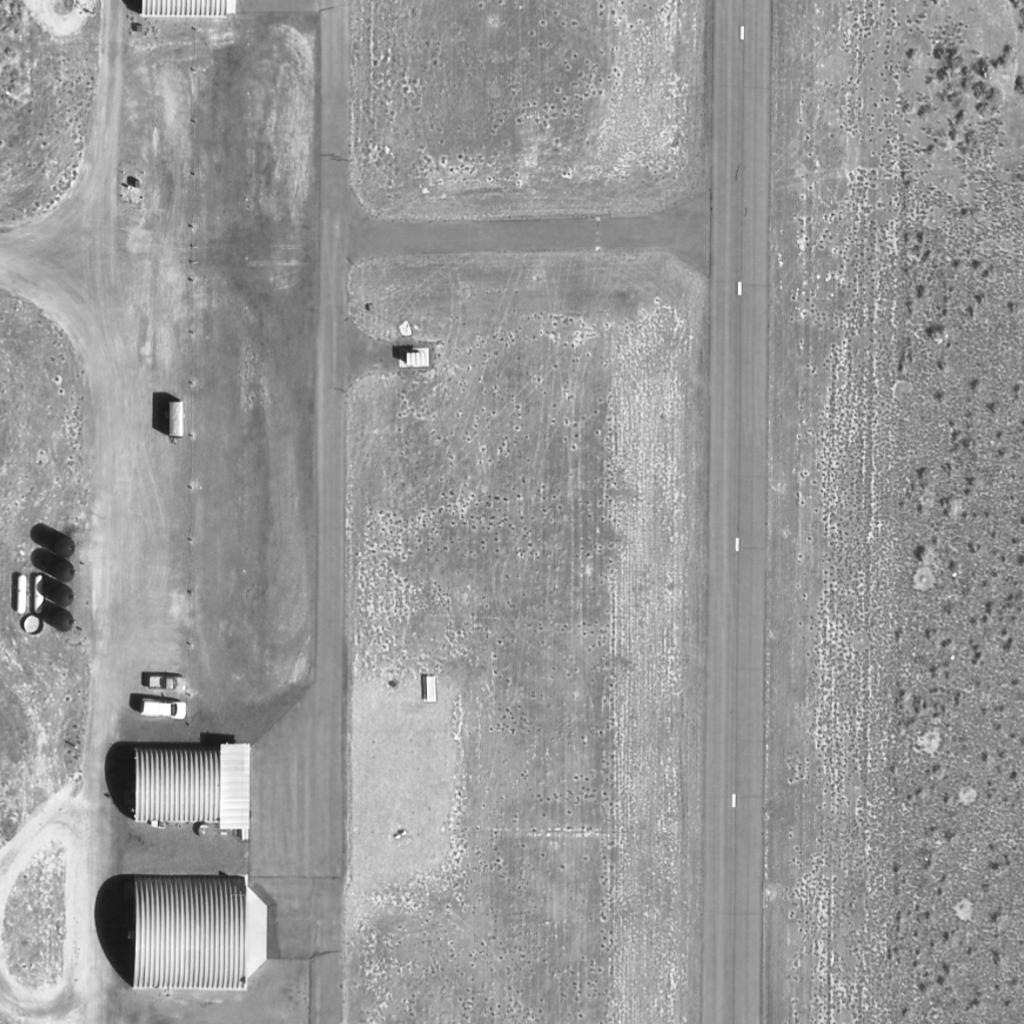vehicle: (141, 700, 187, 722), (148, 676, 188, 690)
